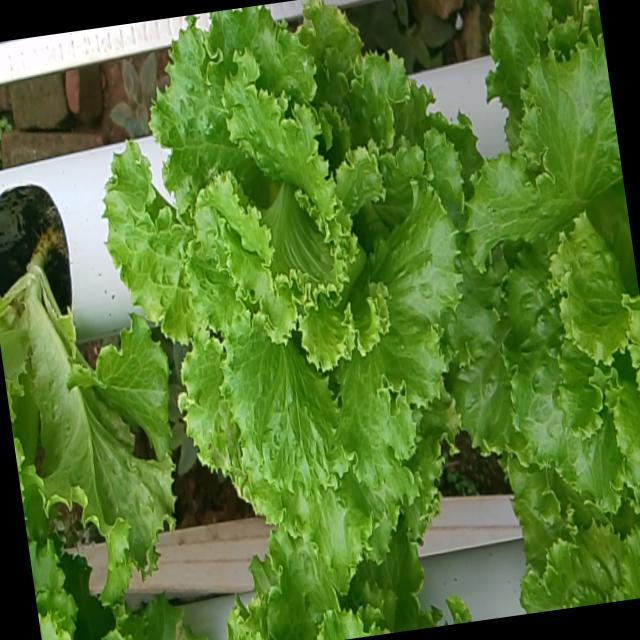Mature: (99, 3, 459, 573), (446, 31, 640, 513)
